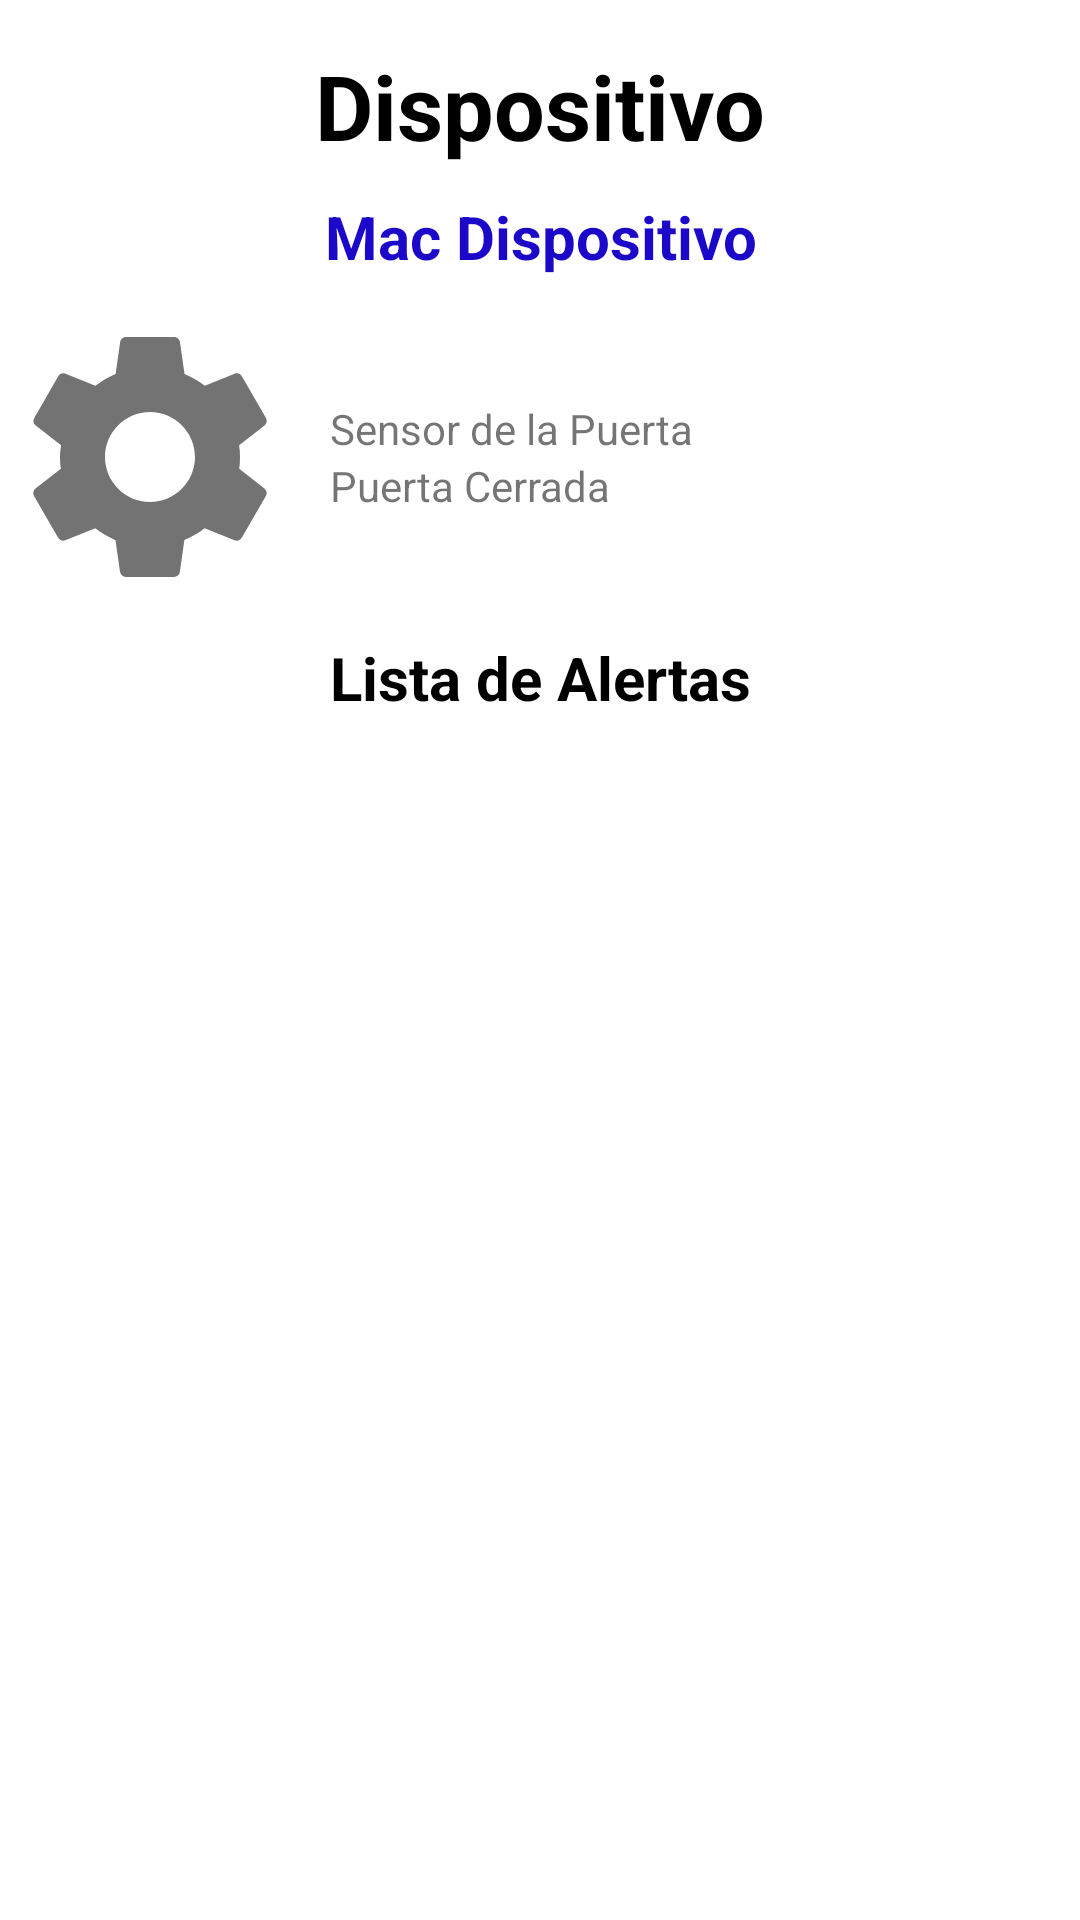

Named icons in this screenshot (1080 × 1920) and their bounding boxes, Rect(x1, y1, x2, y2):
settings: Rect(33, 337, 267, 577)
